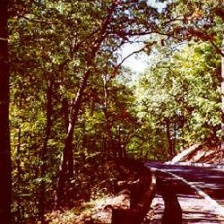neutral: (9, 5, 224, 221)
